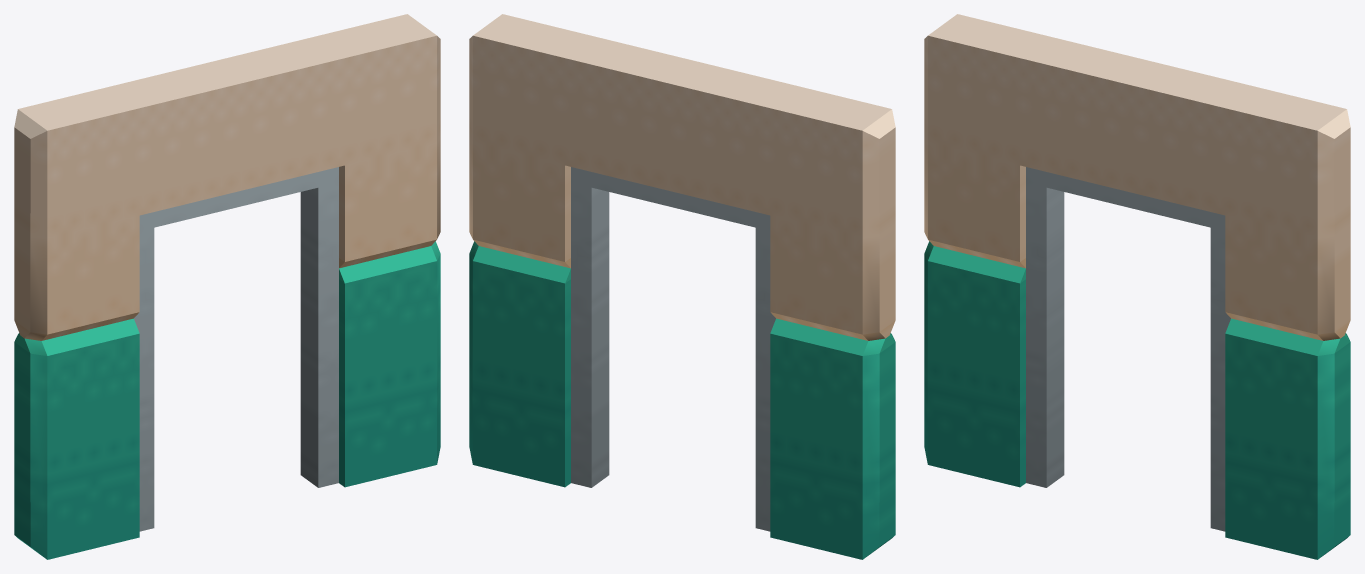
File: wall_doorway.gltf
3 renders of one model, left to right at view 1: azimuth 30°, elevation 25°; view 2: azimuth 150°, elevation 25°; view 3: azimuth 330°, elevation 25°, orthographic.
Parts seen in each view (by area): view 1: wall_doorway; view 2: wall_doorway; view 3: wall_doorway.
Boxes of the visible parts, x1,y1,x2,y2 form: wall_doorway: (14, 14, 440, 559); wall_doorway: (469, 14, 895, 559); wall_doorway: (924, 14, 1350, 559).
Bounding box in the file's own units: 4 × 4 × 0.5.
1 material, 1 textured.
